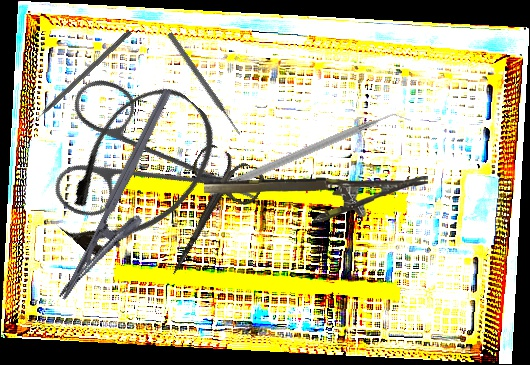Cannula: (33, 68, 237, 278)
Chopper: (207, 104, 413, 208)
Hook Surgical: (27, 28, 132, 127)
Iris Scissors: (14, 32, 269, 288), (140, 140, 270, 292)
Needle Holder: (56, 87, 202, 316), (204, 175, 429, 225)
Pusher: (165, 31, 244, 137)
